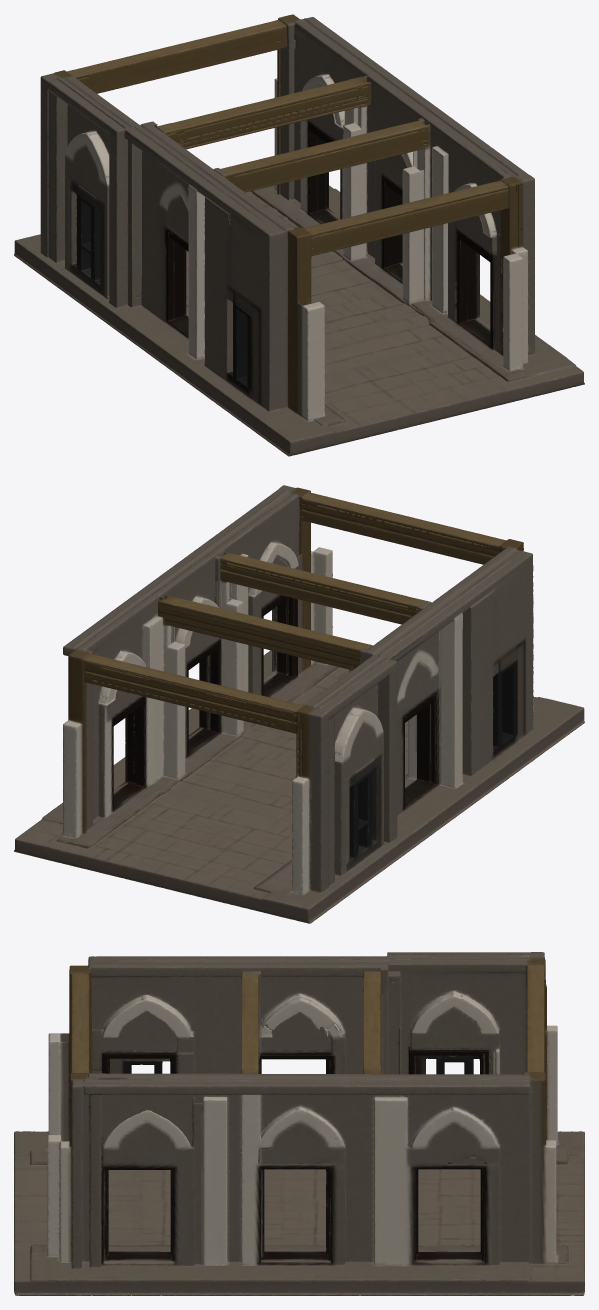
The model's file is el-morsi-abu-el-abbas-mosque-square-1.glb.
The picture shows the model from 3 angles, top to bottom: view 1: azimuth 30°, elevation 25°; view 2: azimuth 150°, elevation 25°; view 3: azimuth 270°, elevation 25°; orthographic projection. The views are drawn at different scales.
Size of the model in its own units: 0.6221 by 0.3879 by 1.
Materials: 1 (1 with a texture image).
